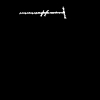treble_crochet: (25, 8, 65, 17)
